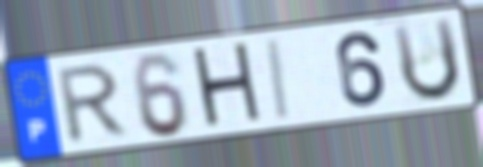6: (129, 49, 191, 141), (333, 29, 390, 111)
H: (188, 38, 267, 134)
I: (266, 36, 294, 124)
R: (56, 60, 133, 148)
U: (388, 14, 464, 106)
